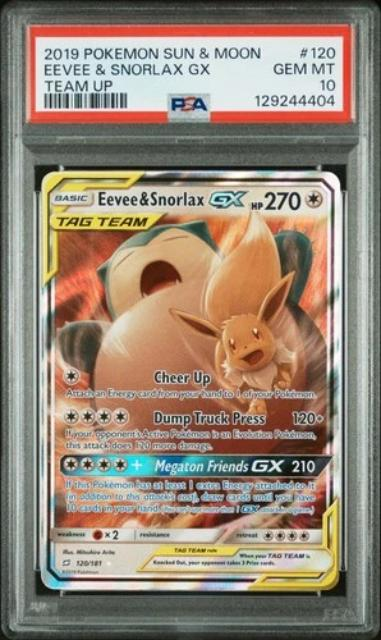Card: (37, 167, 345, 597)
Name: (95, 187, 258, 209)
